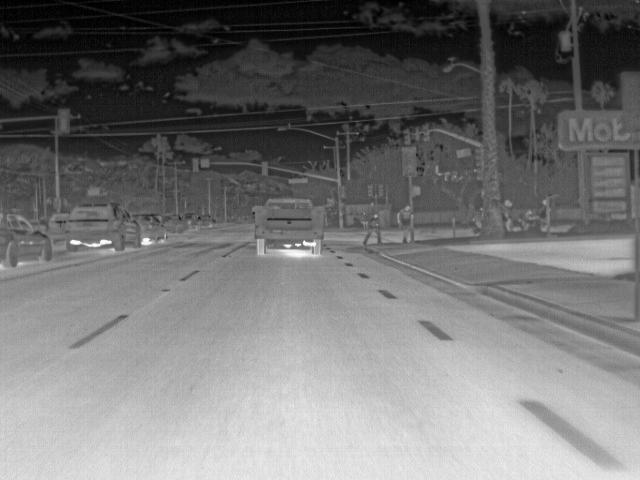car: (253, 198, 325, 257), (65, 206, 141, 252), (0, 210, 54, 269), (133, 211, 166, 243), (45, 212, 71, 241), (163, 214, 185, 232), (184, 210, 200, 230), (197, 212, 216, 228), (30, 218, 45, 234)
person: (361, 208, 383, 246), (394, 203, 414, 244), (501, 198, 517, 229), (539, 198, 552, 232), (521, 206, 536, 228)
